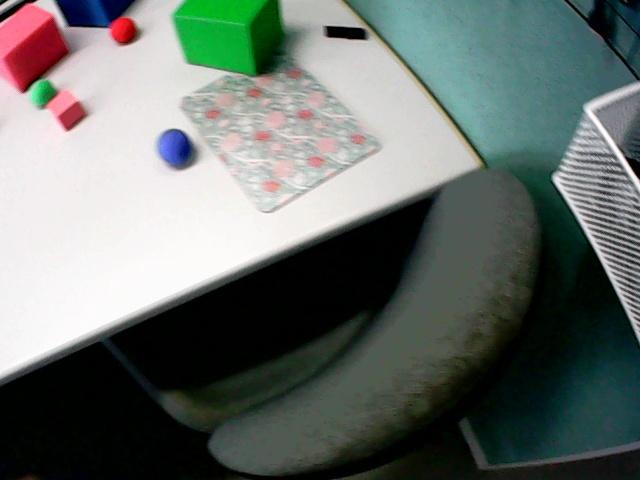blue_block: (56, 0, 133, 26)
red_block: (0, 4, 67, 91), (46, 90, 85, 130)
